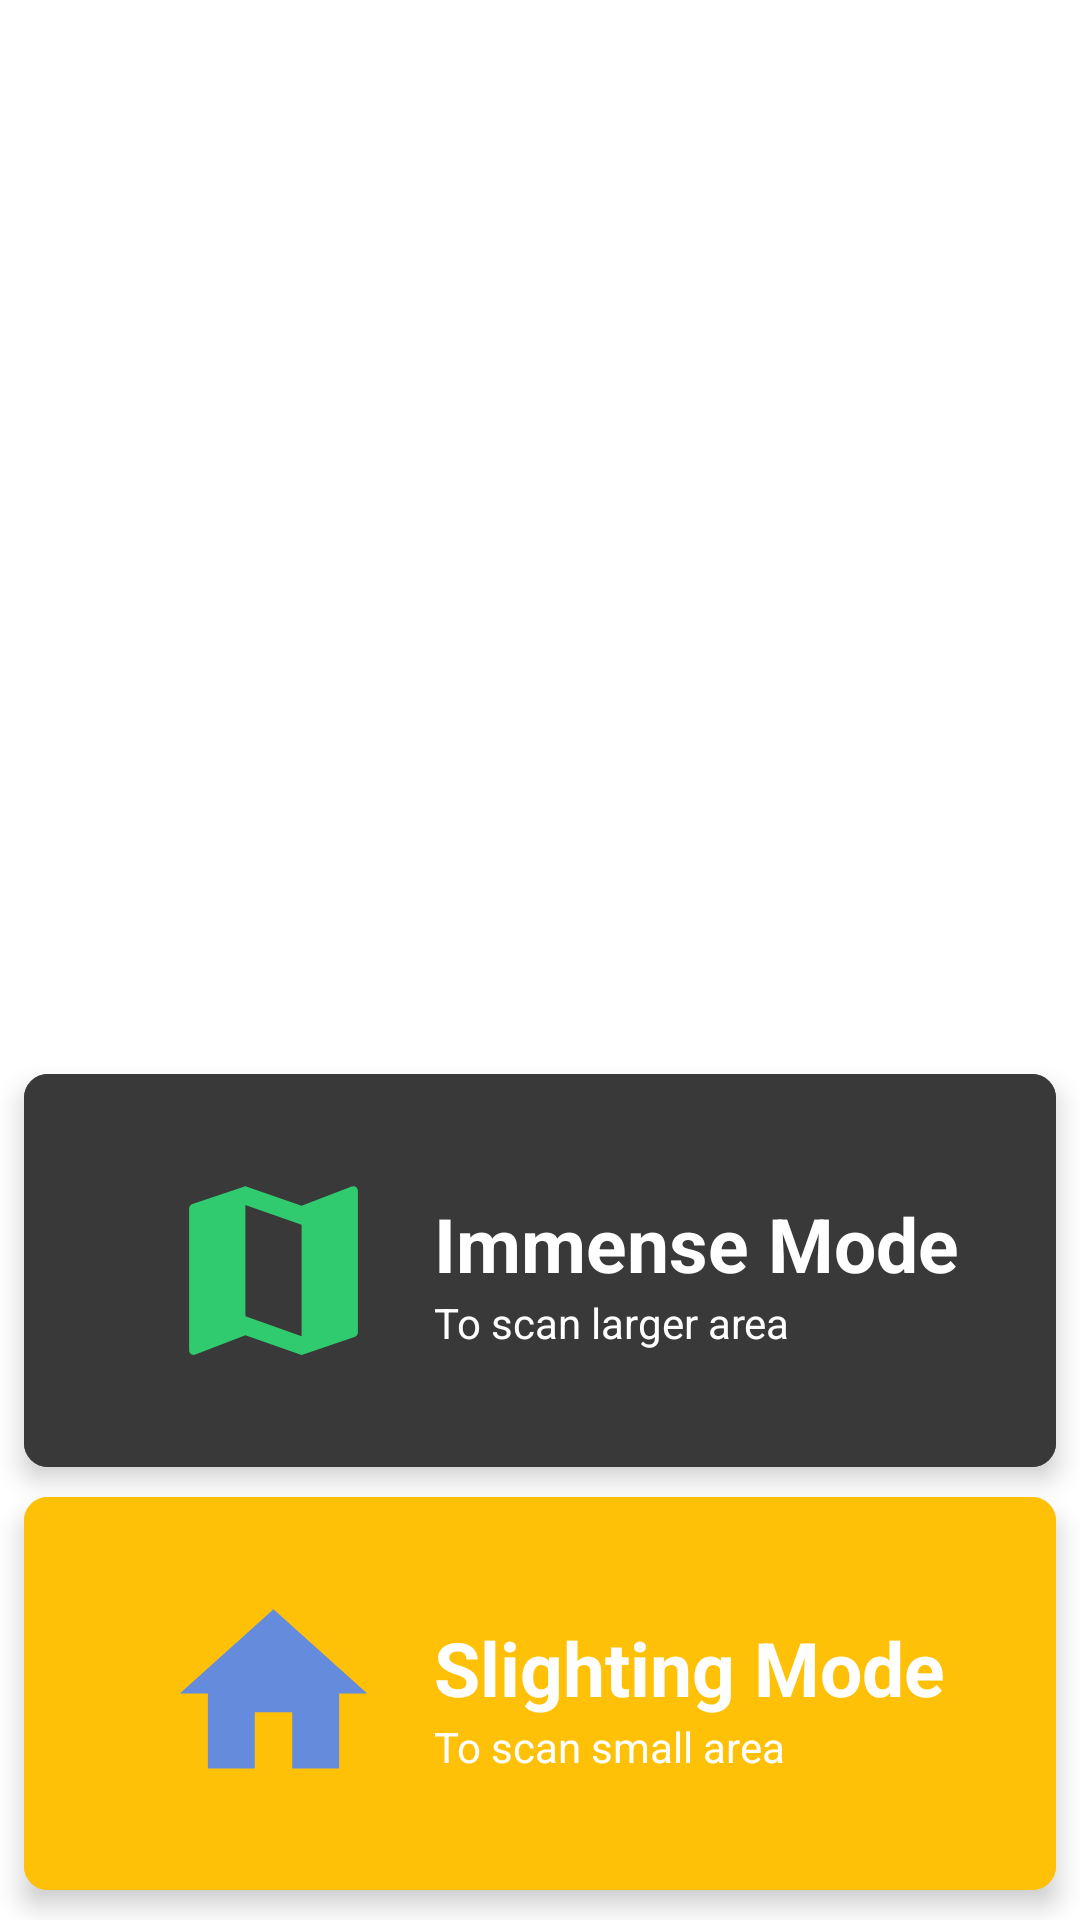

Named icons in this screenshot (1080×1920) and their centers, (x,y):
home: (273,1689)
map: (273,1270)
